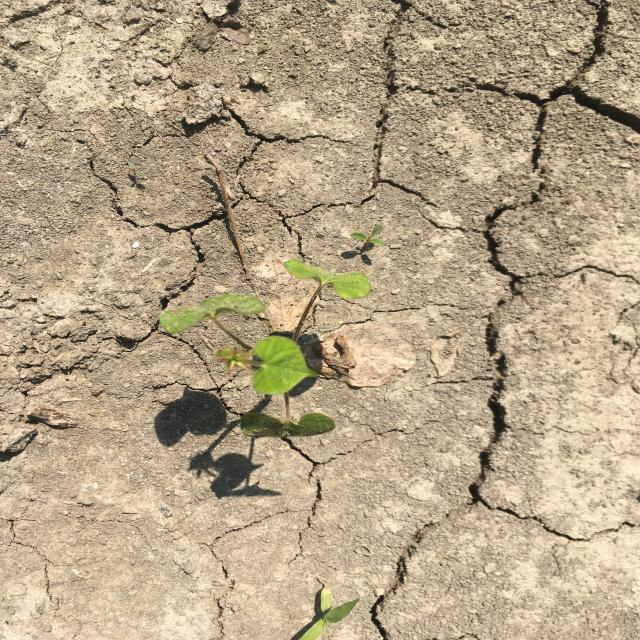MorningGlory: (158, 256, 374, 442)
